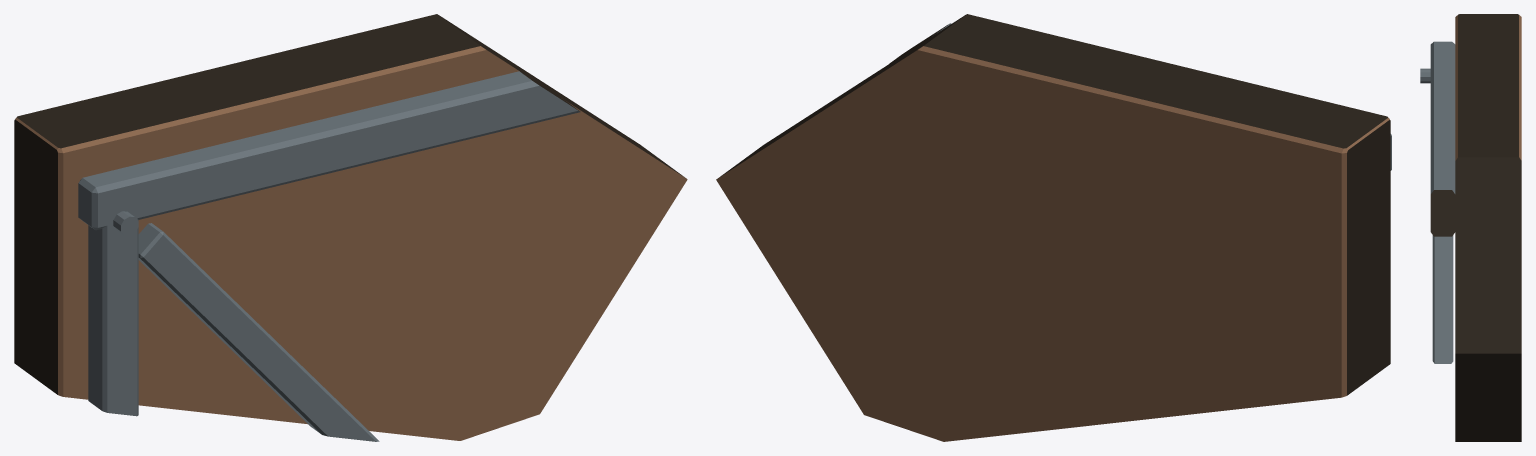
File: SM_DoorShard_03_25.fbx
3 renders of one model, left to right at view 1: azimuth 30°, elevation 25°; view 2: azimuth 150°, elevation 25°; view 3: azimuth 270°, elevation 25°, orthographic. The views are drawn at different scales.
Visible parts, largest first — view 1: SM_DoorShard_03_25; view 2: SM_DoorShard_03_25; view 3: SM_DoorShard_03_25.
Boxes of the visible parts, x1,y1,x2,y2 form: SM_DoorShard_03_25: (14, 14, 687, 441); SM_DoorShard_03_25: (716, 14, 1391, 441); SM_DoorShard_03_25: (1420, 14, 1521, 441).
Size of the model in its own units: 122 by 24.5 by 72.05.
